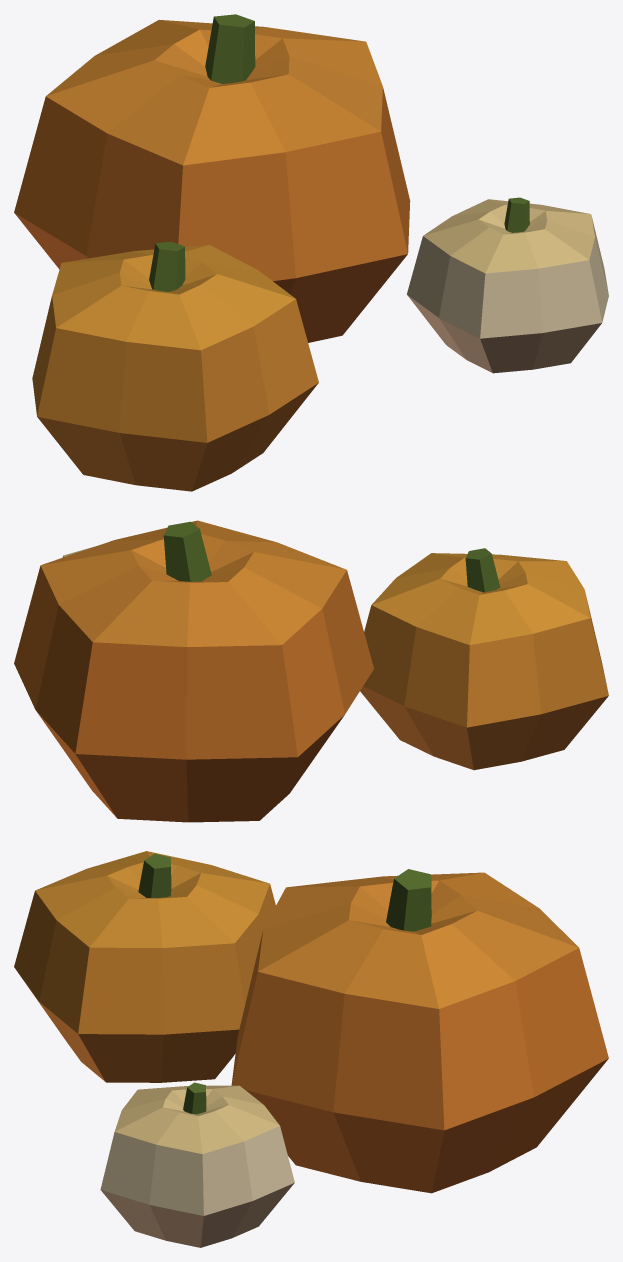
The model's file is pumpkin_pile.glb.
3 views of the same model, one above another, from view 1: azimuth 30°, elevation 25°; view 2: azimuth 150°, elevation 25°; view 3: azimuth 270°, elevation 25° (orthographic). The views are drawn at different scales.
Visible parts, largest first — view 1: pumpkin_pile; view 2: pumpkin_pile; view 3: pumpkin_pile.
Boxes of the visible parts, x1,y1,x2,y2 form: pumpkin_pile: (14,14,608,491); pumpkin_pile: (14,520,608,822); pumpkin_pile: (14,851,608,1247).
Bounding box in the file's own units: 0.8216 × 0.371 × 0.7492.
